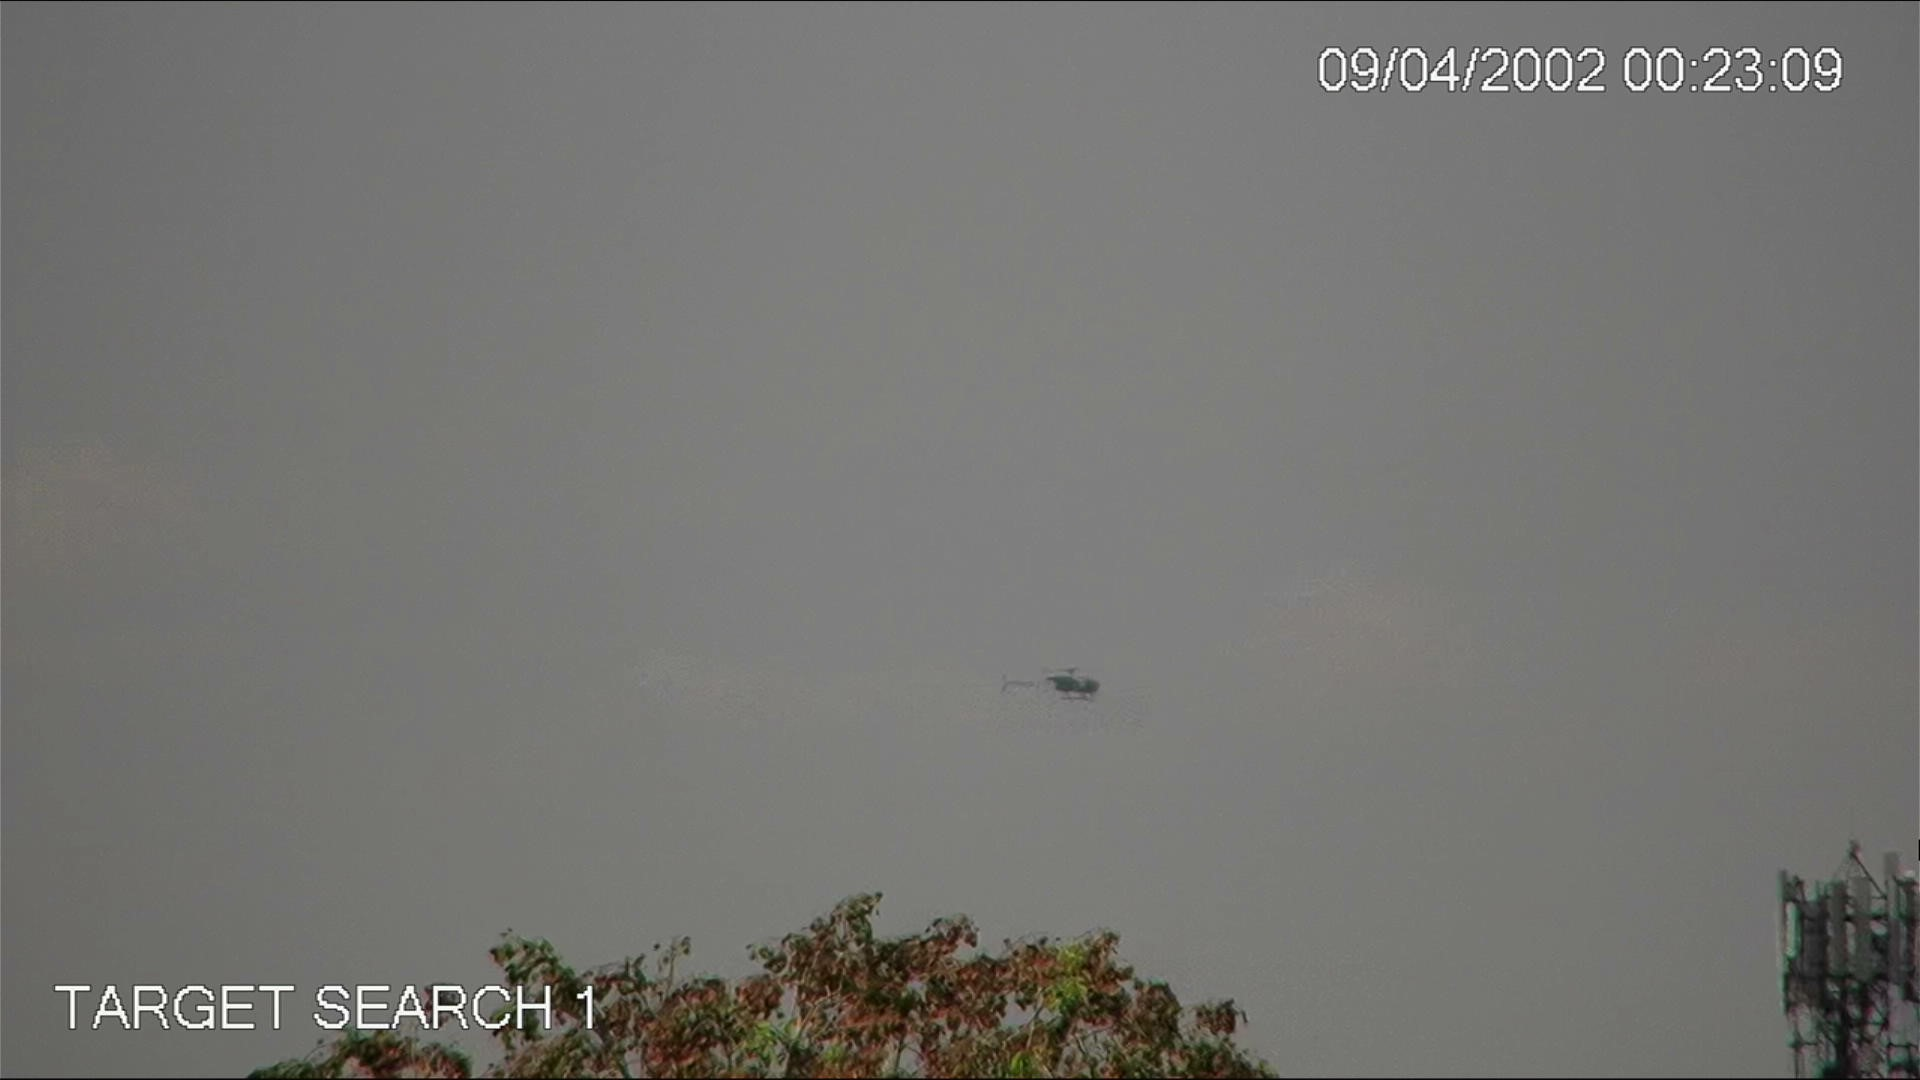SU_30: (996, 659, 1109, 705)
